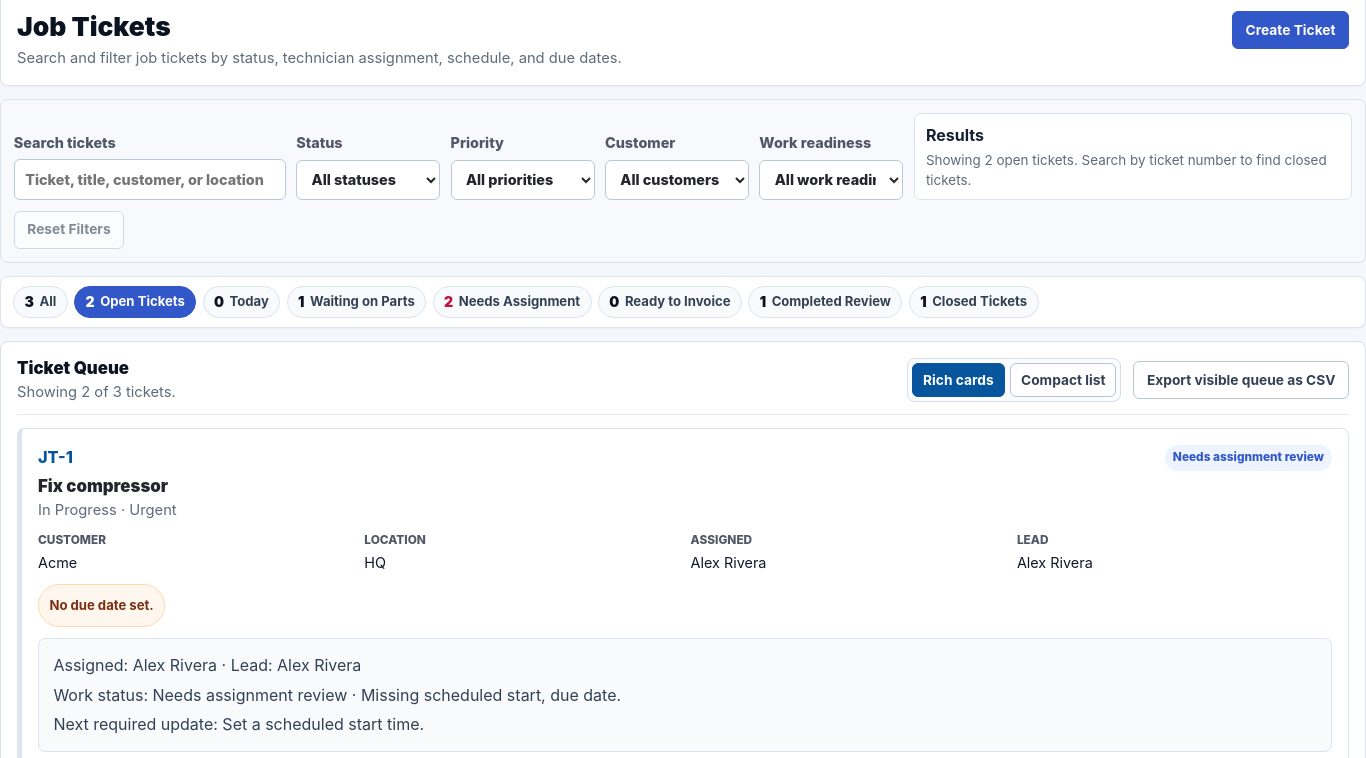
Manager list pages › shows clickable KPI view cards and filters tickets when clicked
Expected: the element named "quick ticket views" is shown, [0, 276, 1365, 328]
Expected: the button "2 Open Tickets" is shown, [74, 286, 196, 318]
// Click Waiting on Parts
Click the button "1 Waiting on Parts". click: (356, 302)
box: [287, 286, 426, 318]
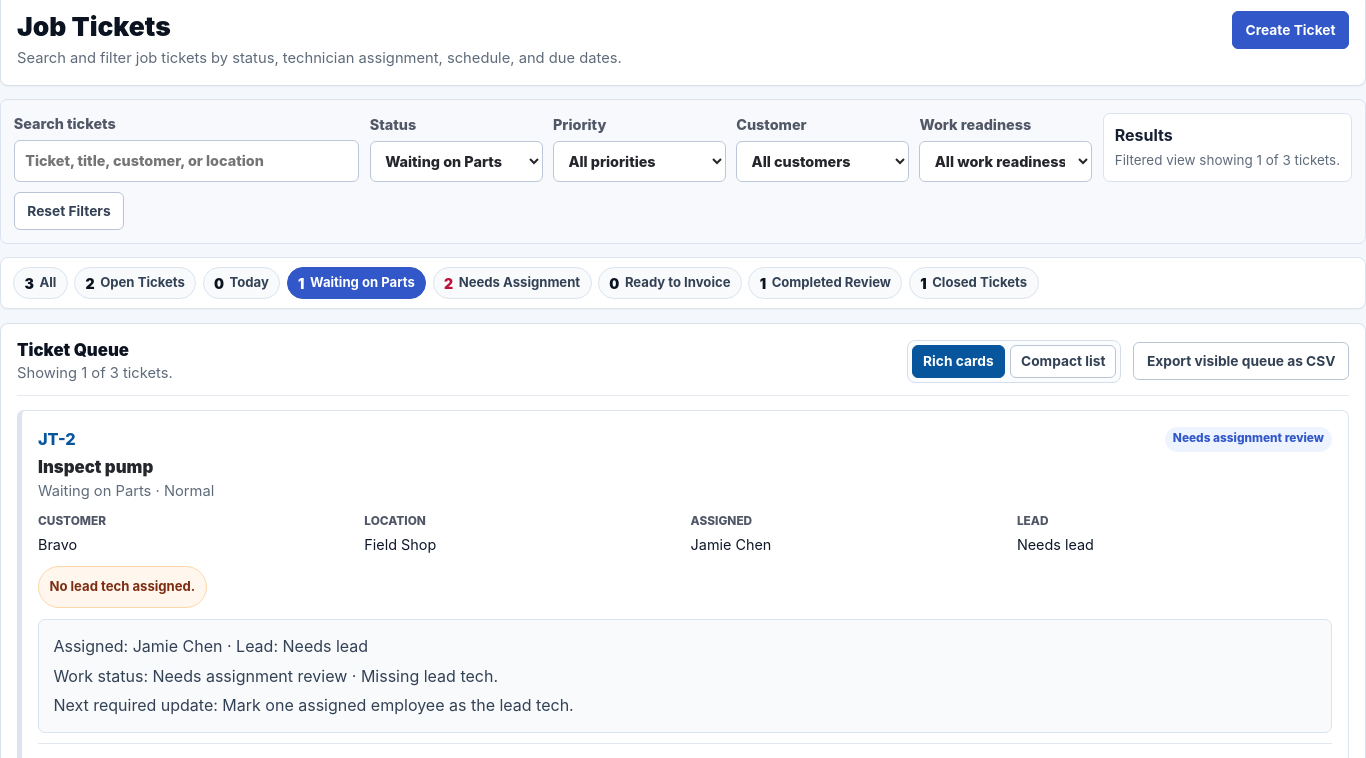
Expected: the link "JT-2" is shown, [38, 428, 76, 448]
Now the link "JT-1" is gone
Now the dropdown labelled "Status" shows "Waiting on Parts", box [370, 141, 543, 182]
// Click Closed Tickets
Click the button "1 Closed Tickets". click: (974, 283)
box: [909, 267, 1039, 299]
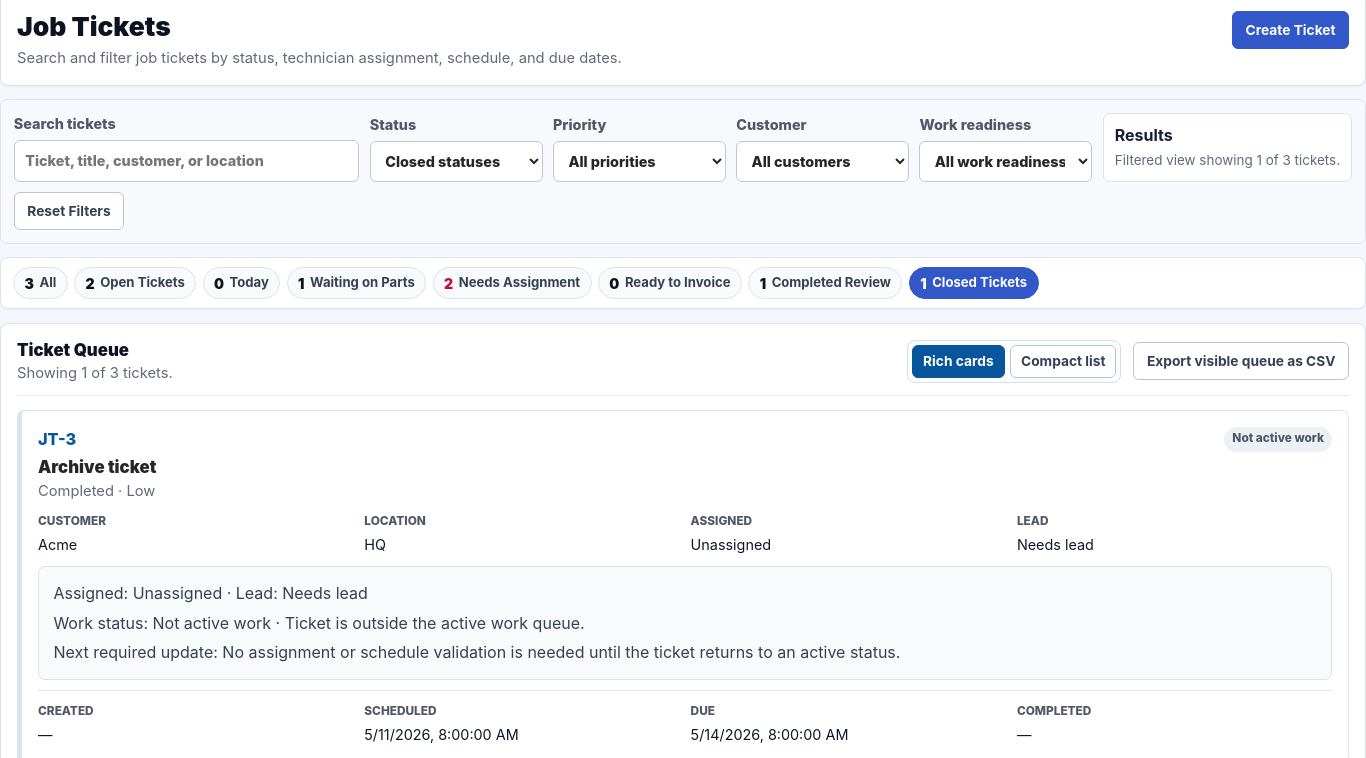
Now the link "JT-3" is shown, box [38, 428, 76, 448]
Now the link "JT-2" is gone
Now the dropdown labelled "Status" shows "Closed statuses", box [370, 141, 543, 182]
// Click Open Tickets to return to default
Click the button "2 Open Tickets". click: (135, 283)
box: [74, 267, 196, 299]
(page scrolled)
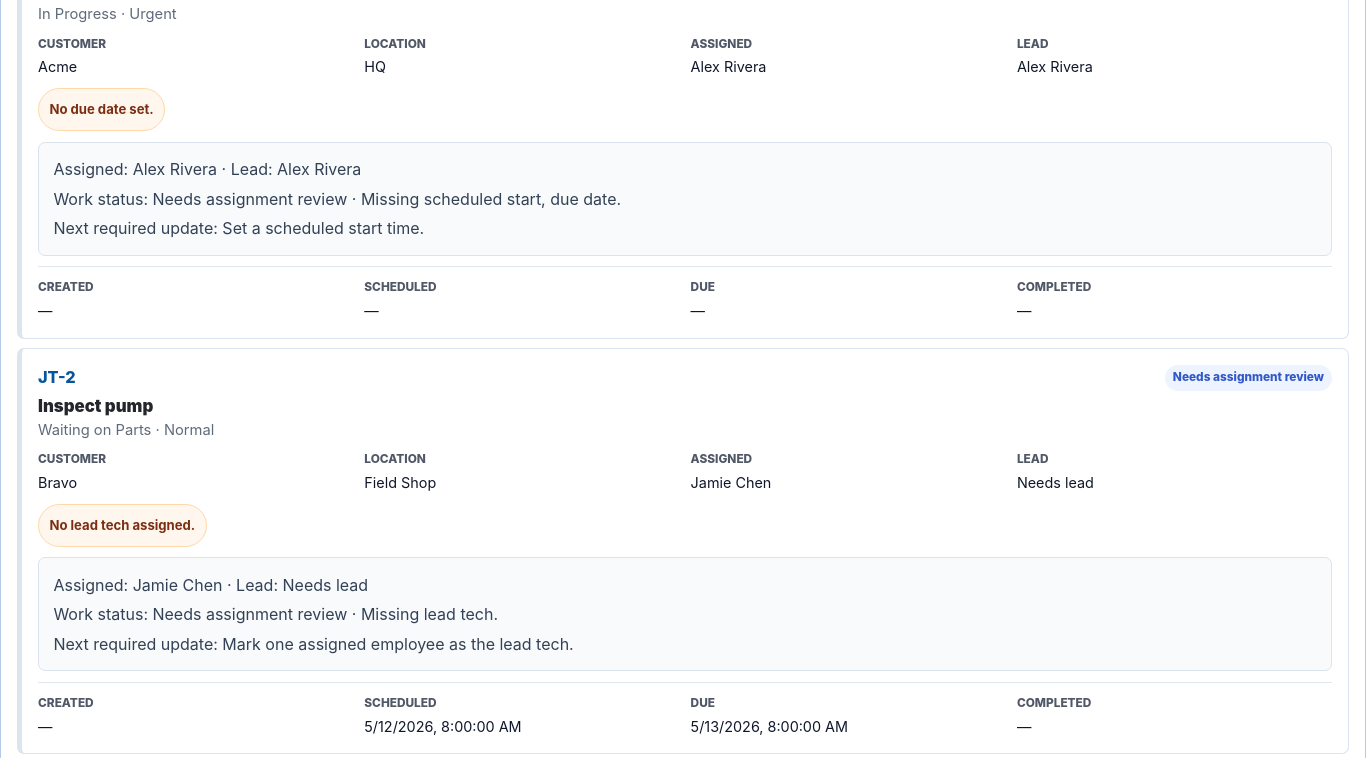
Now the link "JT-2" is shown, box [38, 367, 76, 387]
Now the link "JT-3" is gone
